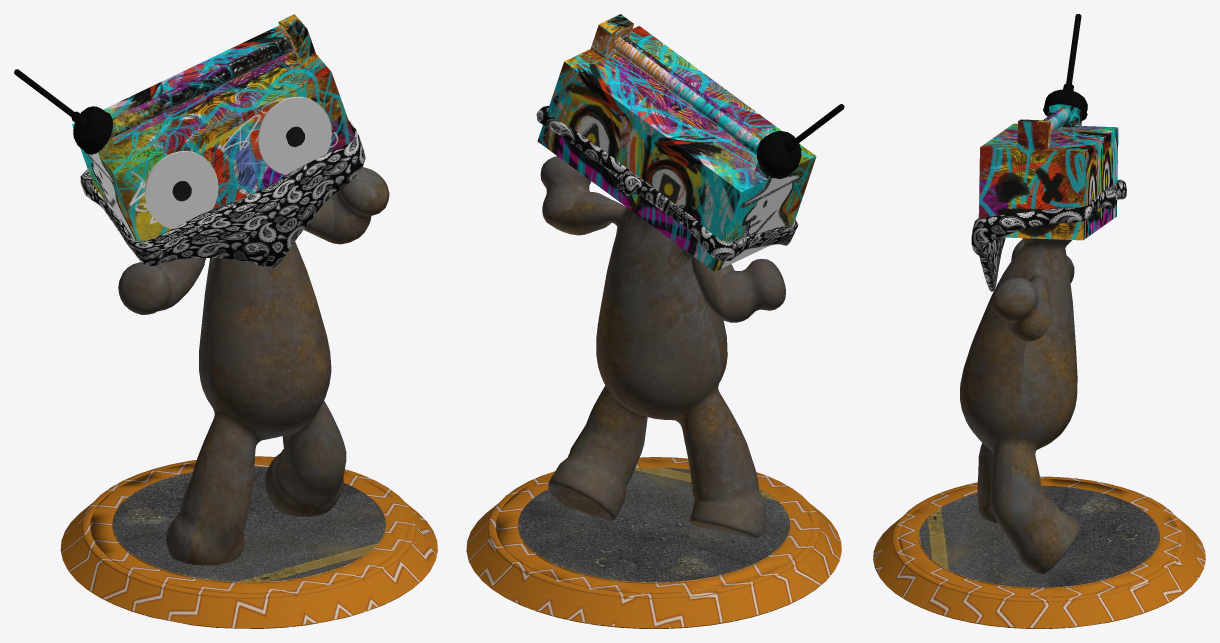
The picture shows the model from 3 angles, left to right: view 1: azimuth 30°, elevation 25°; view 2: azimuth 150°, elevation 25°; view 3: azimuth 270°, elevation 25°; orthographic projection. The views are drawn at different scales.
Parts seen in each view (by area): view 1: BBody; view 2: BBody; view 3: BBody.
Part boxes in pixels (<box>): BBody: <box>14,14,437,628</box>; BBody: <box>466,14,844,628</box>; BBody: <box>873,14,1205,628</box>.
Size of the model in its own units: 1.66 by 2.2 by 1.45.
Materials: 8 (5 with a texture image).
